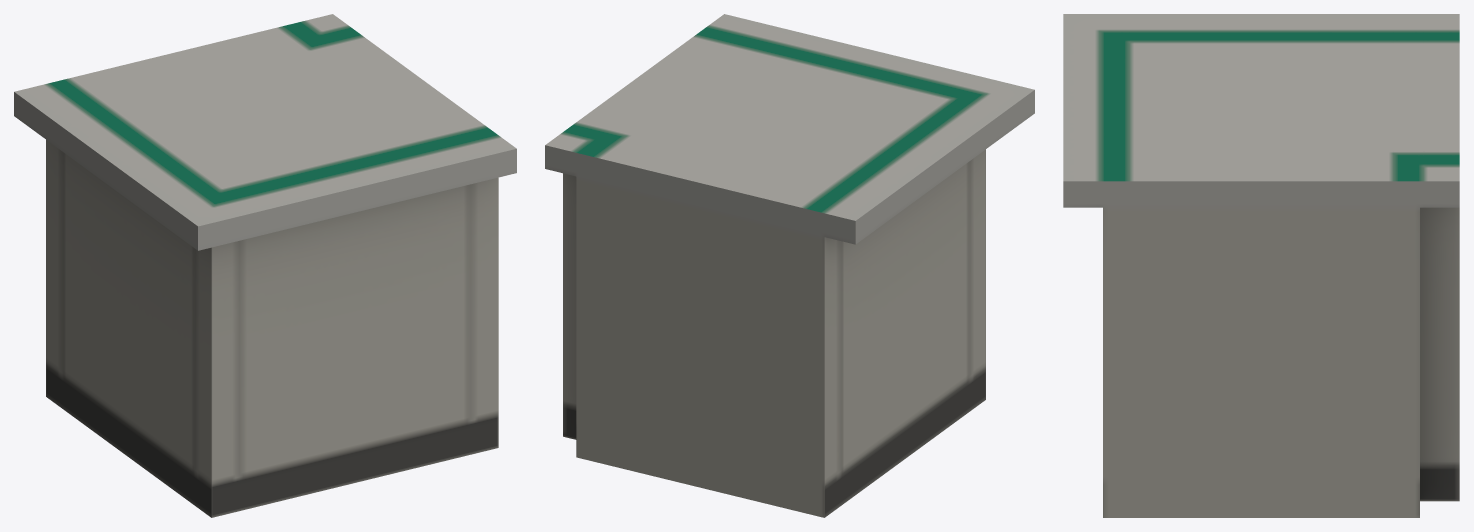
File: sb_obj_ModernCity060_counter_c.fbx
The picture shows the model from 3 angles, left to right: view 1: azimuth 30°, elevation 25°; view 2: azimuth 150°, elevation 25°; view 3: azimuth 270°, elevation 25°; orthographic projection. The views are drawn at different scales.
Visible parts, largest first — view 1: sb_obj_ModernCity060_counter_c; view 2: sb_obj_ModernCity060_counter_c; view 3: sb_obj_ModernCity060_counter_c.
Part boxes in pixels (<box>): sb_obj_ModernCity060_counter_c: <box>14,14,516,517</box>; sb_obj_ModernCity060_counter_c: <box>545,14,1034,517</box>; sb_obj_ModernCity060_counter_c: <box>1063,14,1459,517</box>.
Bounding box in the file's own units: 0.64 × 0.6 × 0.64.
1 material, 1 textured.
